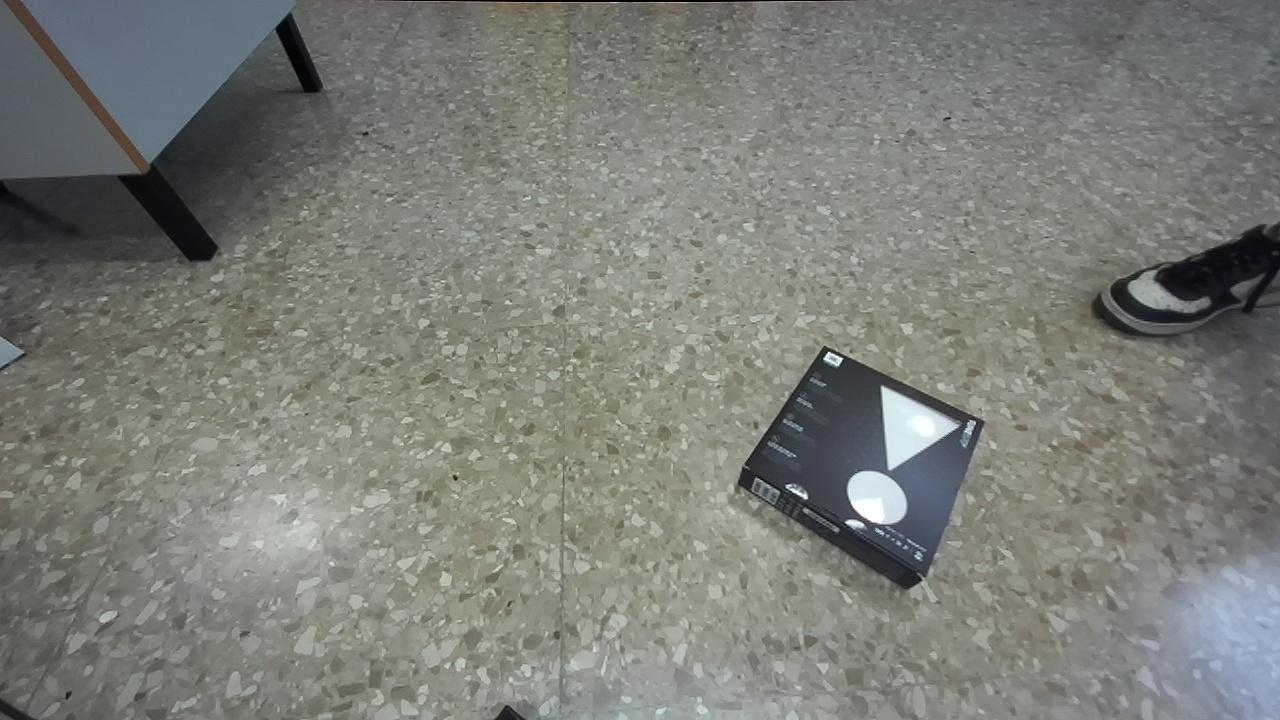caja_chasis: (738, 347, 983, 587)
